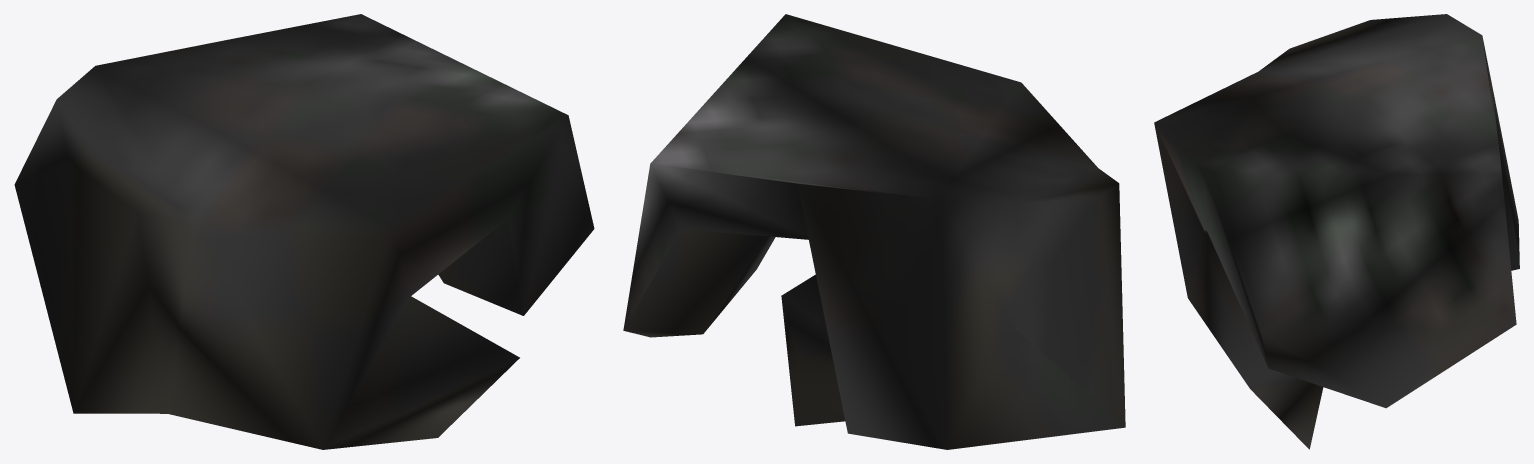
The model's file is Robot01.LeftPalm2.fbx.
3 views of the same model, side by side, from view 1: azimuth 30°, elevation 25°; view 2: azimuth 150°, elevation 25°; view 3: azimuth 270°, elevation 25° (orthographic). The views are drawn at different scales.
Visible parts, largest first — view 1: Robot01.LeftPalm2; view 2: Robot01.LeftPalm2; view 3: Robot01.LeftPalm2.
Part boxes in pixels (x1,y1,x2,y2): Robot01.LeftPalm2: [14, 14, 594, 449]; Robot01.LeftPalm2: [623, 14, 1125, 449]; Robot01.LeftPalm2: [1154, 14, 1519, 449].
Bounding box in the file's own units: 29.1 × 20.94 × 22.29.
